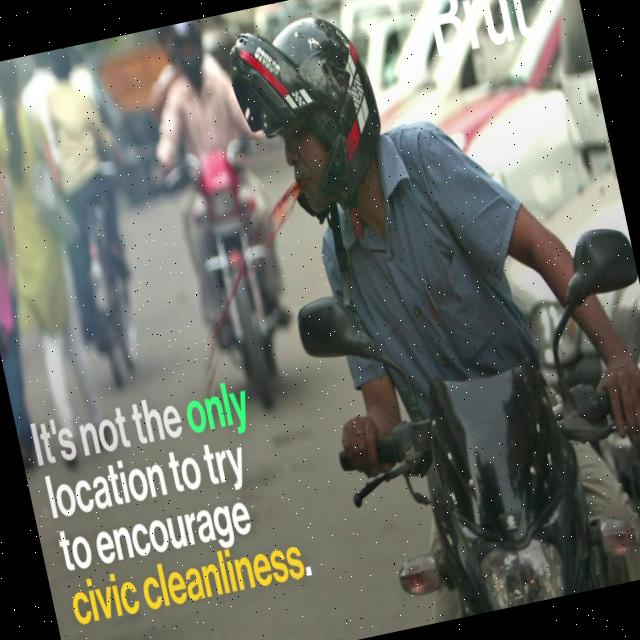spit: (143, 171, 327, 365)
